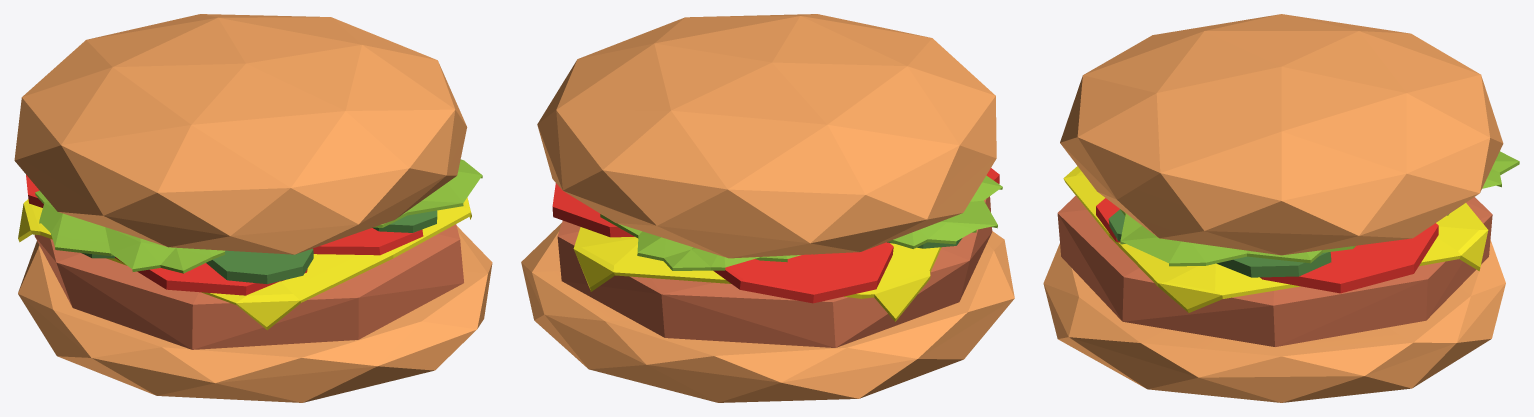
The model's file is Burger_01.fbx.
3 renders of one model, left to right at view 1: azimuth 30°, elevation 25°; view 2: azimuth 150°, elevation 25°; view 3: azimuth 270°, elevation 25°, orthographic. The views are drawn at different scales.
Visible parts, largest first — view 1: Burger_01; view 2: Burger_01; view 3: Burger_01.
Part boxes in pixels (x1,y1,x2,y2): Burger_01: [14, 14, 492, 402]; Burger_01: [521, 14, 1014, 402]; Burger_01: [1043, 14, 1519, 402].
Size of the model in its own units: 16.93 by 10.5 by 17.29.
